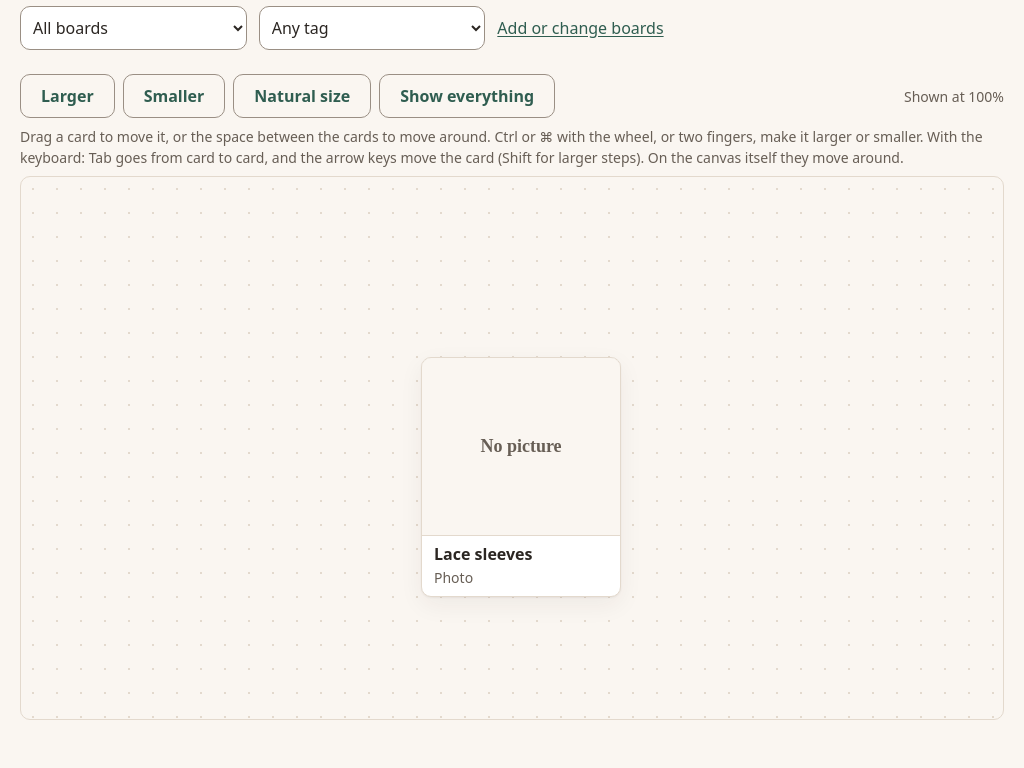
Test: pressing a card › does not open the idea when the press moved it
(page scrolled)
Press the mouse on the link with aria-label "Lace sleeves," at x=521, y=477, box [421,357,621,597]
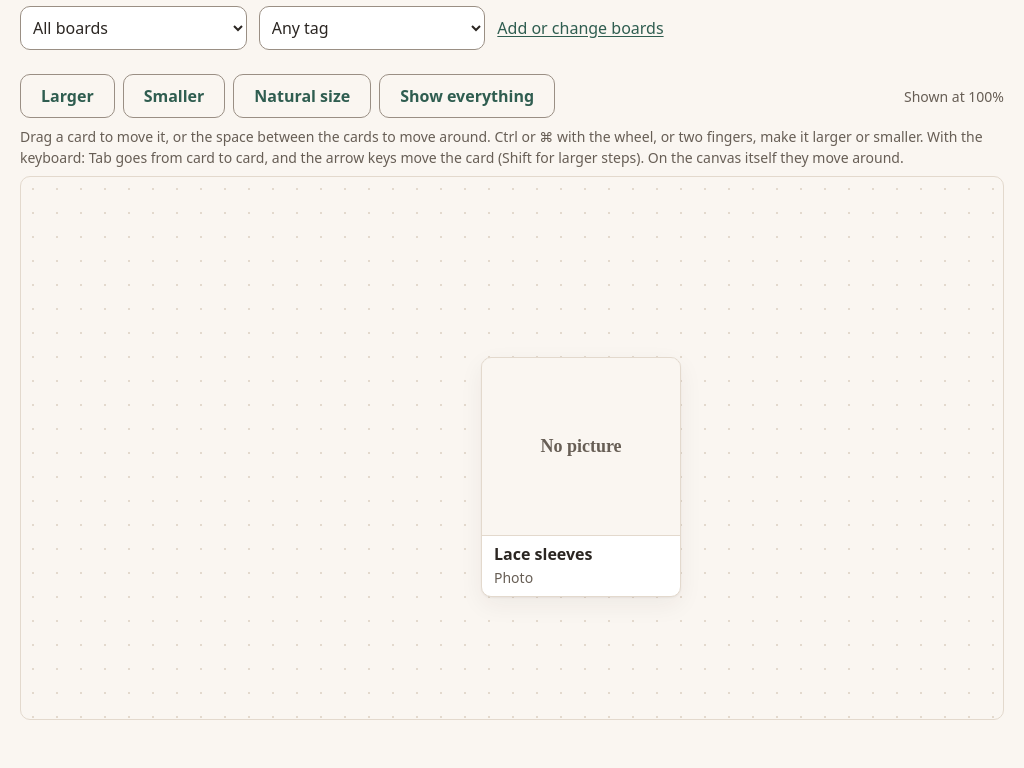
Click the link with aria-label "Lace sleeves," at x=581, y=477, box [481,357,681,597]
(page scrolled)
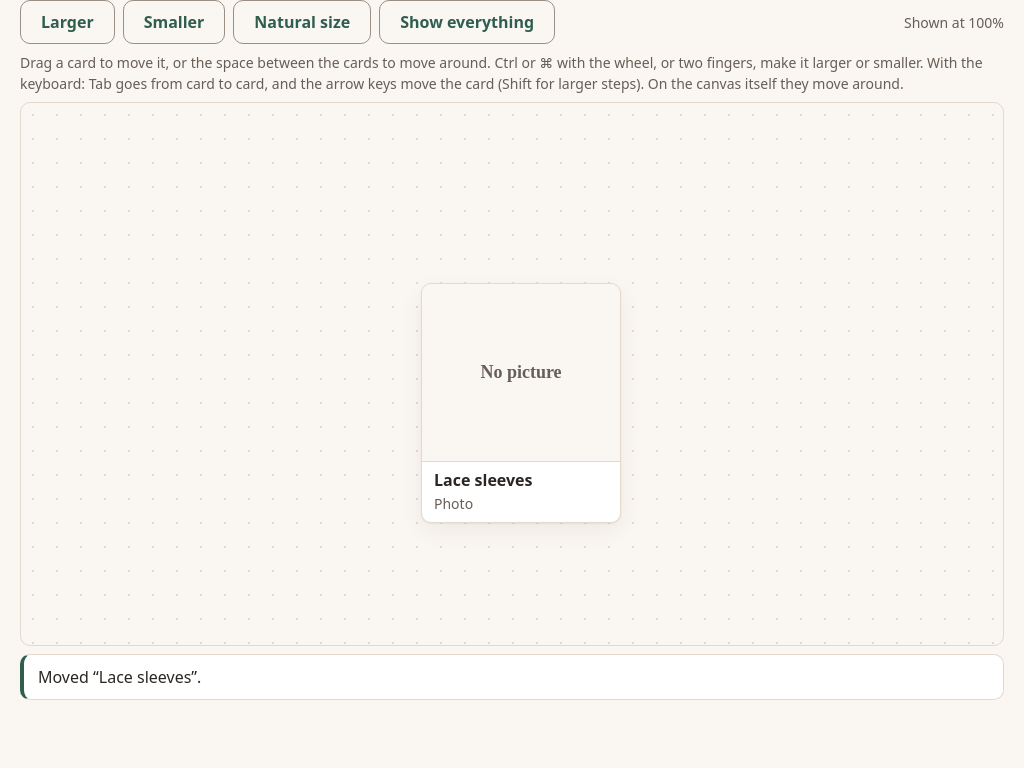
Check: the text "Moved “Lace sleeves”." is shown, box [20,654,1004,700]
